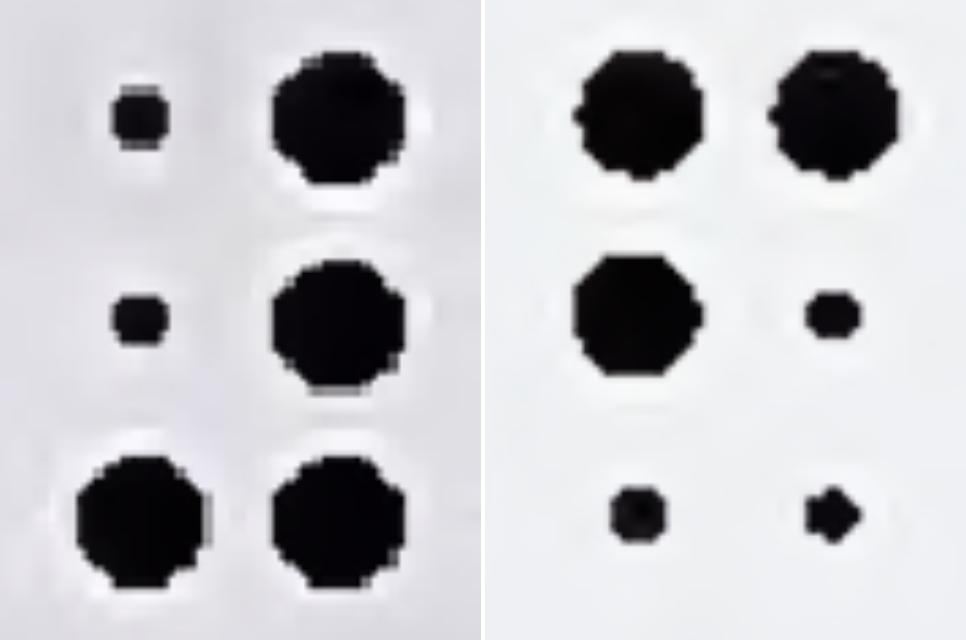digit_6: (574, 51, 899, 545)
number_sign: (78, 55, 404, 588)
